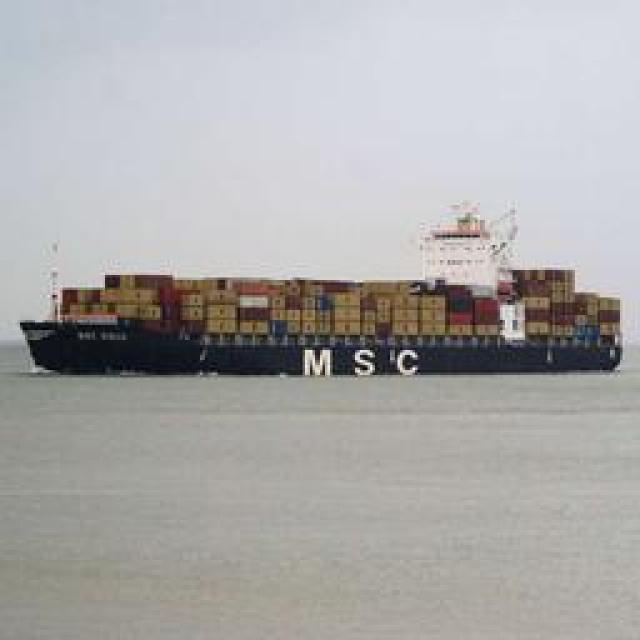ship2: (19, 200, 623, 378)
